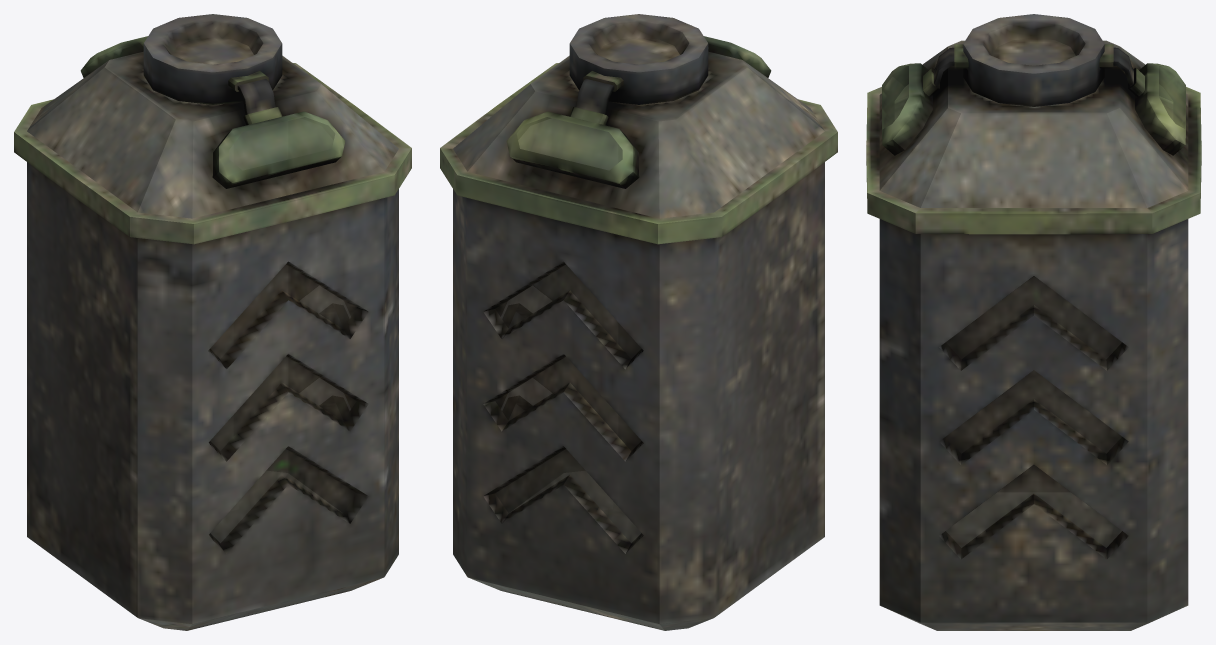
The model's file is PowerCell.FBX.
The picture shows the model from 3 angles, left to right: view 1: azimuth 30°, elevation 25°; view 2: azimuth 150°, elevation 25°; view 3: azimuth 270°, elevation 25°; orthographic projection. The views are drawn at different scales.
Parts seen in each view (by area): view 1: PowerCell; view 2: PowerCell; view 3: PowerCell.
Boxes of the visible parts, <box> form: PowerCell: <box>14,14,411,630</box>; PowerCell: <box>440,14,837,630</box>; PowerCell: <box>866,14,1201,630</box>.
Size of the model in its own units: 20.71 by 36.74 by 20.71.
